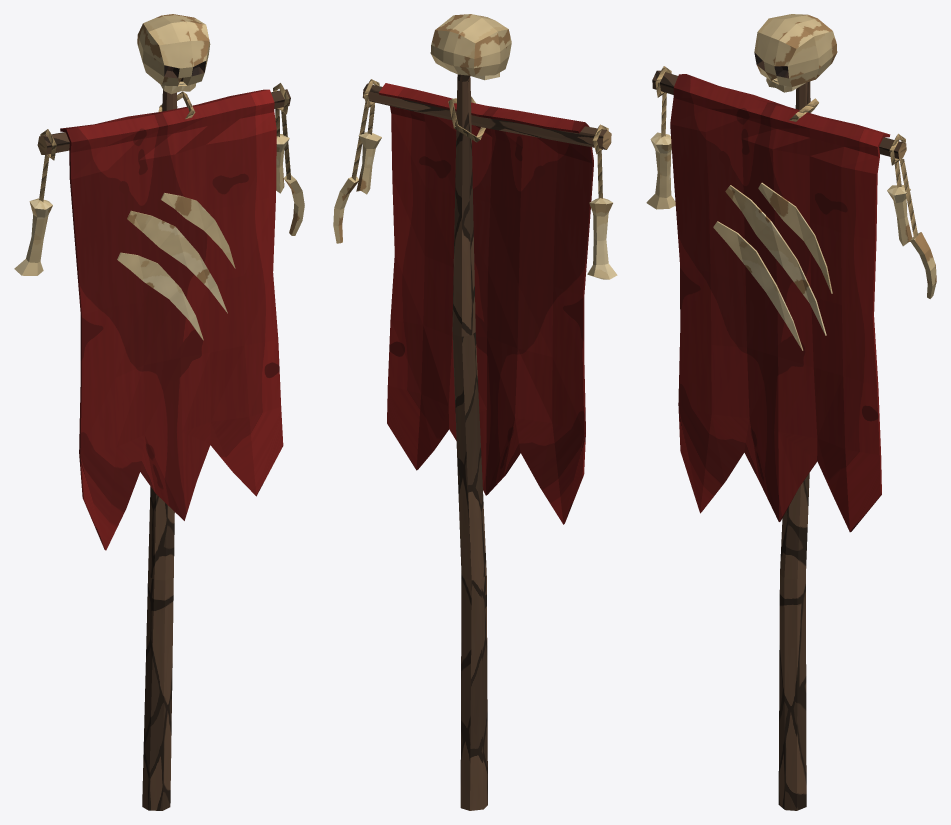
Rendered from SM_EnemyBanner.fbx.
The picture shows the model from 3 angles, left to right: view 1: azimuth 30°, elevation 25°; view 2: azimuth 150°, elevation 25°; view 3: azimuth 330°, elevation 25°; orthographic projection. The views are drawn at different scales.
Visible parts, largest first — view 1: SM_EnemyBanner; view 2: SM_EnemyBanner; view 3: SM_EnemyBanner.
Part boxes in pixels (x1,y1,x2,y2): SM_EnemyBanner: (14,14,304,810); SM_EnemyBanner: (333,14,617,810); SM_EnemyBanner: (646,14,936,810).
Bounding box in the file's own units: 1.11 × 2.97 × 0.2583.
